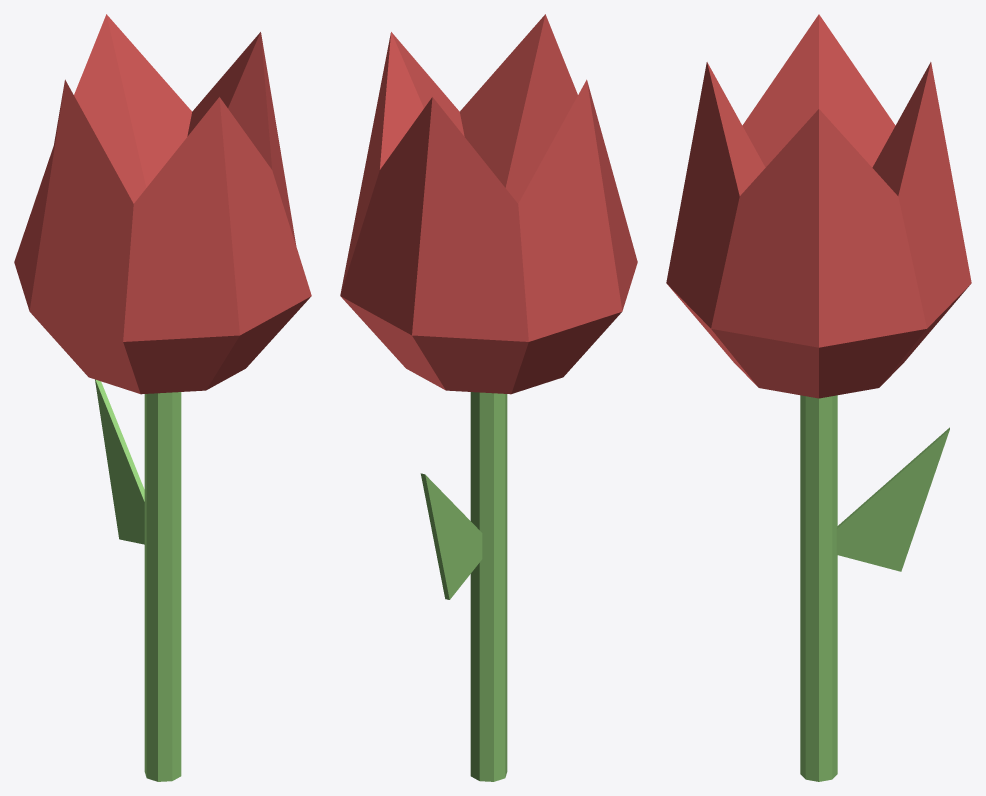
File: tulip.fbx
3 renders of one model, left to right at view 1: azimuth 30°, elevation 25°; view 2: azimuth 150°, elevation 25°; view 3: azimuth 270°, elevation 25°, orthographic.
Visible parts, largest first — view 1: Cylinder; view 2: Cylinder; view 3: Cylinder.
Part boxes in pixels (bbox=[...]): Cylinder: bbox=[14, 14, 311, 781]; Cylinder: bbox=[340, 14, 637, 781]; Cylinder: bbox=[666, 14, 971, 781].
Bounding box in the file's own units: 273 × 702 × 273.
